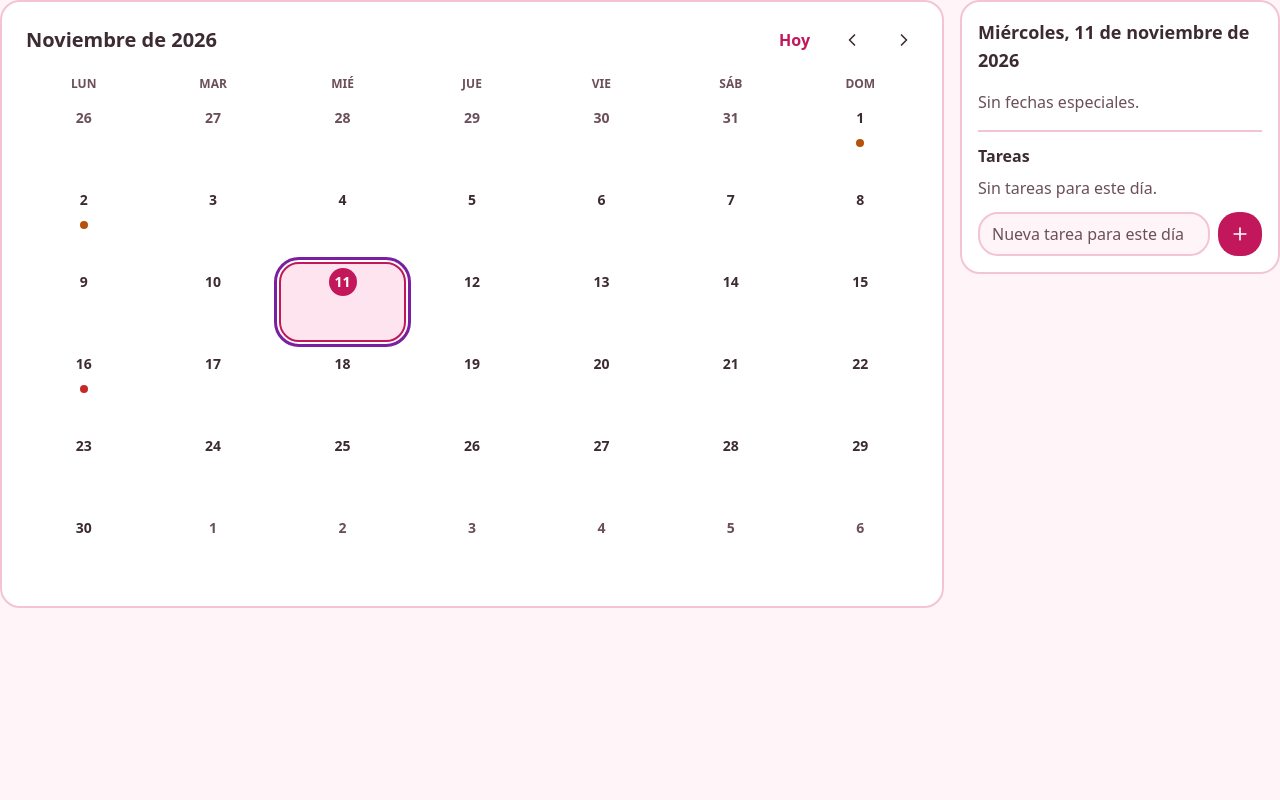
Test: MonthCalendar › changes month with PageDown and when arrows leave the month
Step 1. Press Pagedown
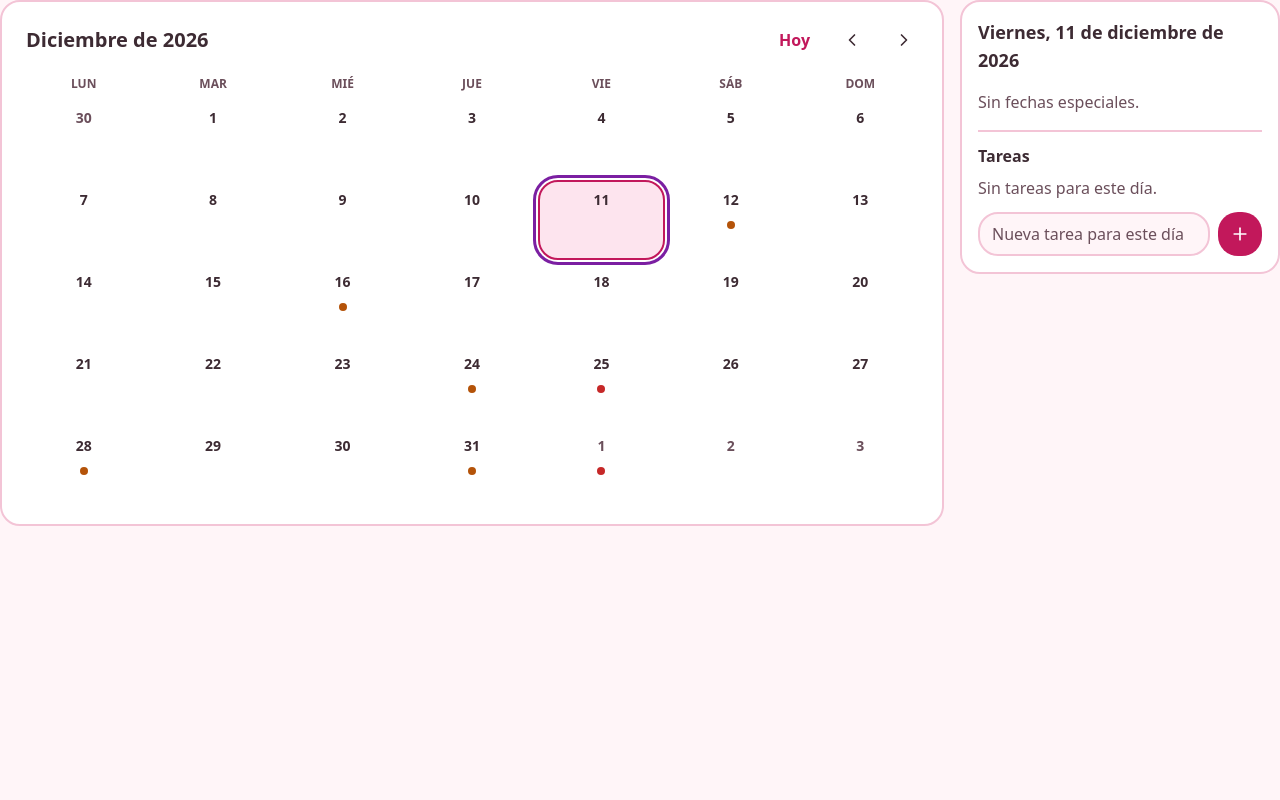
Result: the heading "diciembre de 2026" is shown at x1=26 y1=26 x2=209 y2=53
Step 2. Press Pageup Pageup
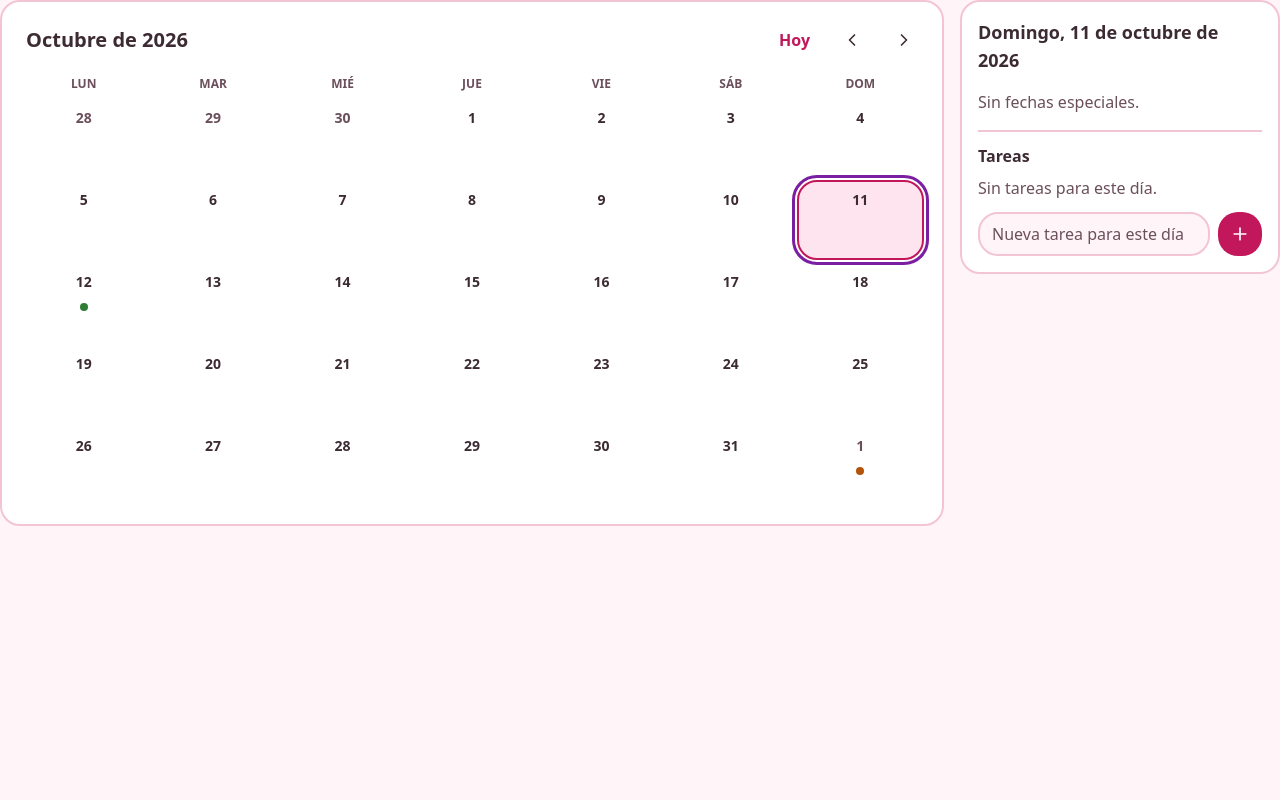
Result: the heading "octubre de 2026" is shown at x1=26 y1=26 x2=188 y2=53
# Oct 31 + 1 day crosses into November
Step 3. Click the button "31" → (731, 466), box x1=667 y1=426 x2=794 y2=506
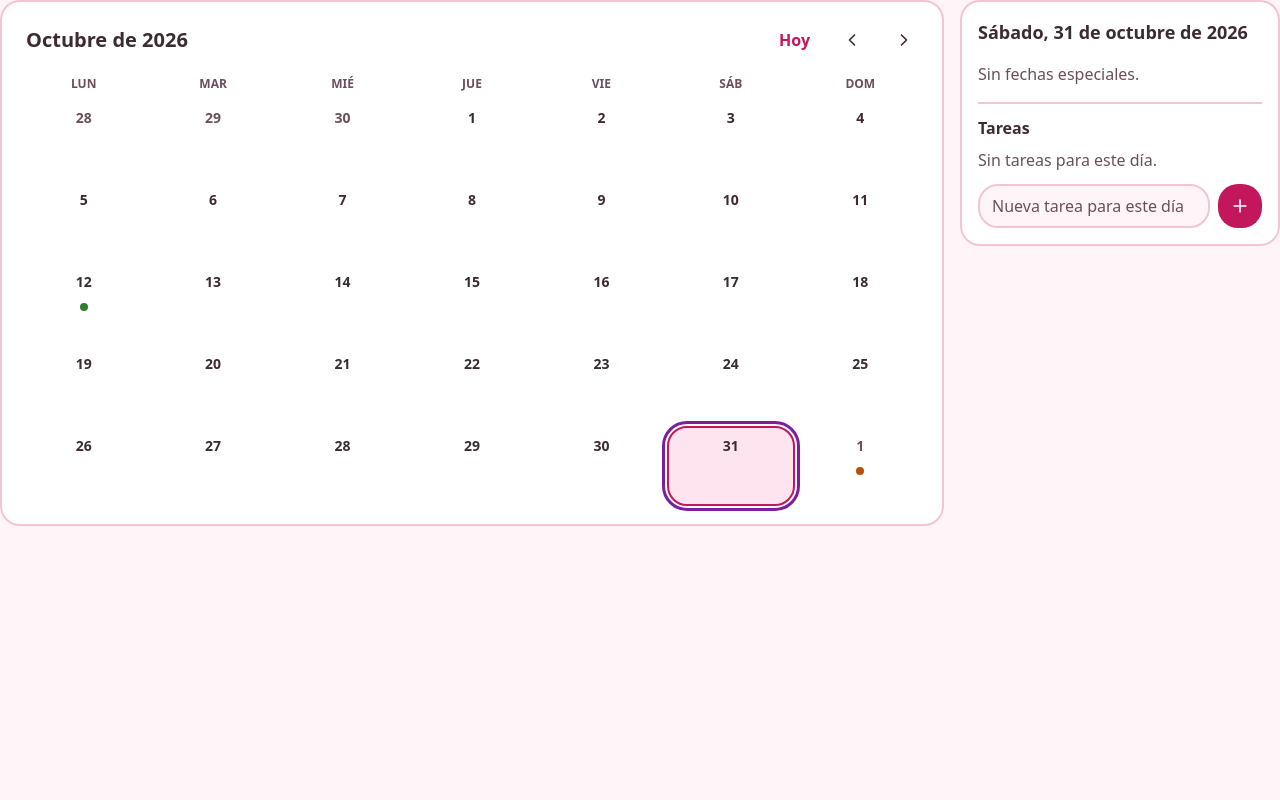
Step 4. Press Arrowright
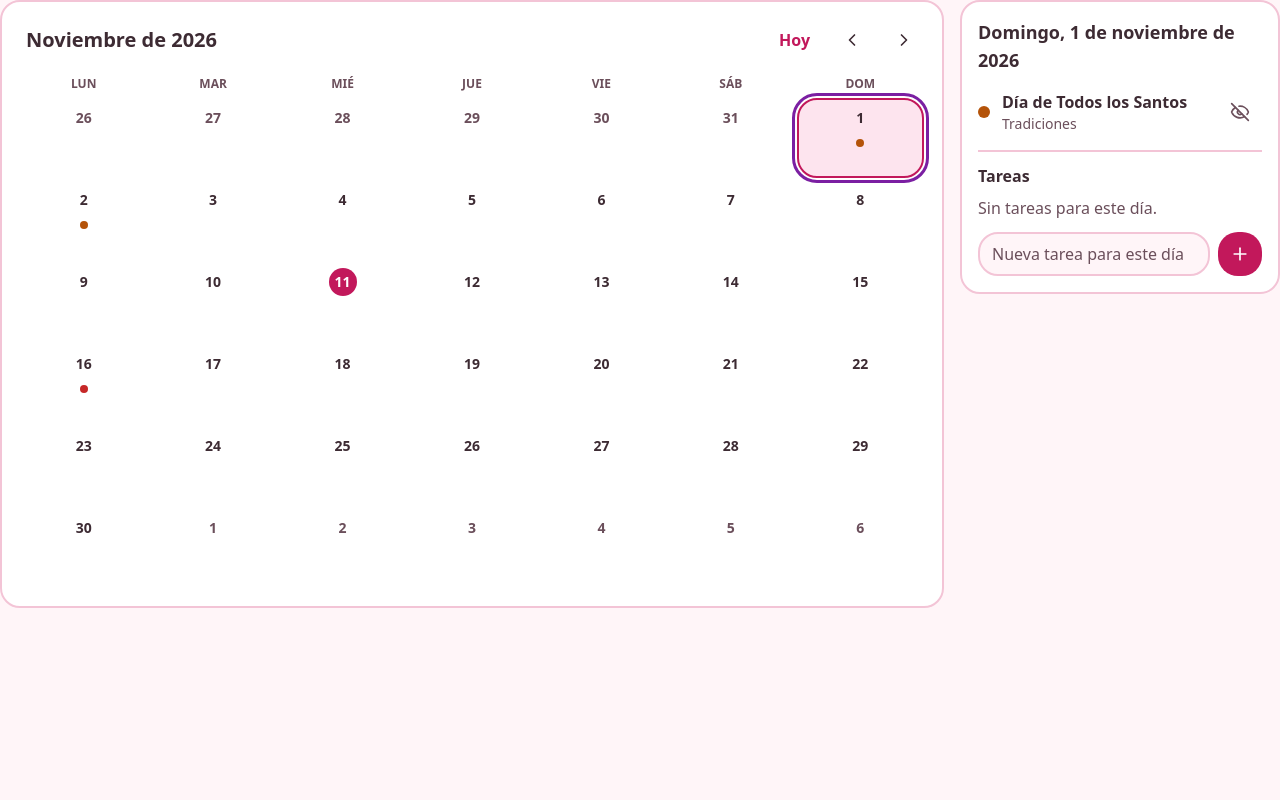
Result: the heading "noviembre de 2026" is shown at x1=26 y1=26 x2=217 y2=53
